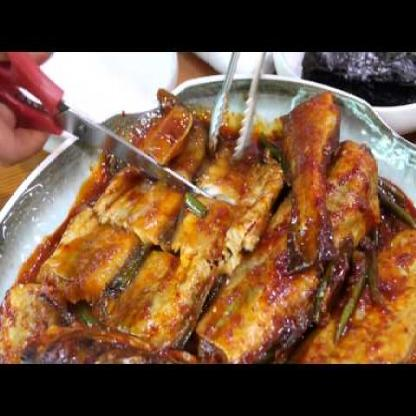Peixe: (0, 94, 416, 370)
